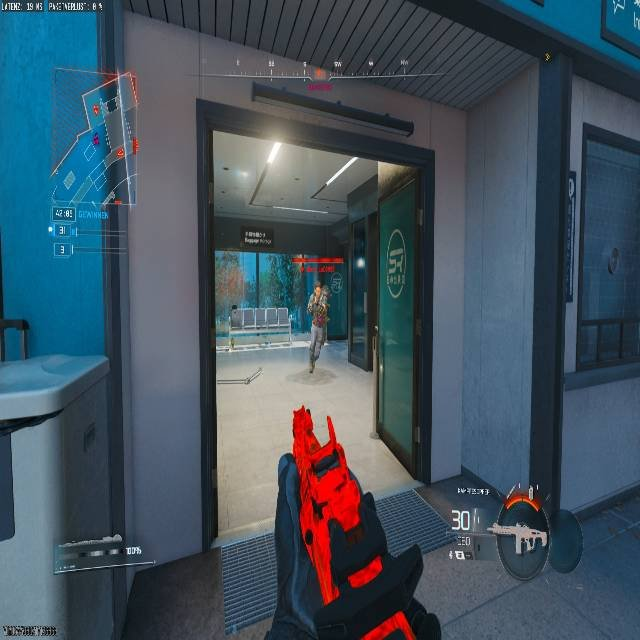head: (313, 281, 322, 291)
player: (305, 281, 331, 374)
